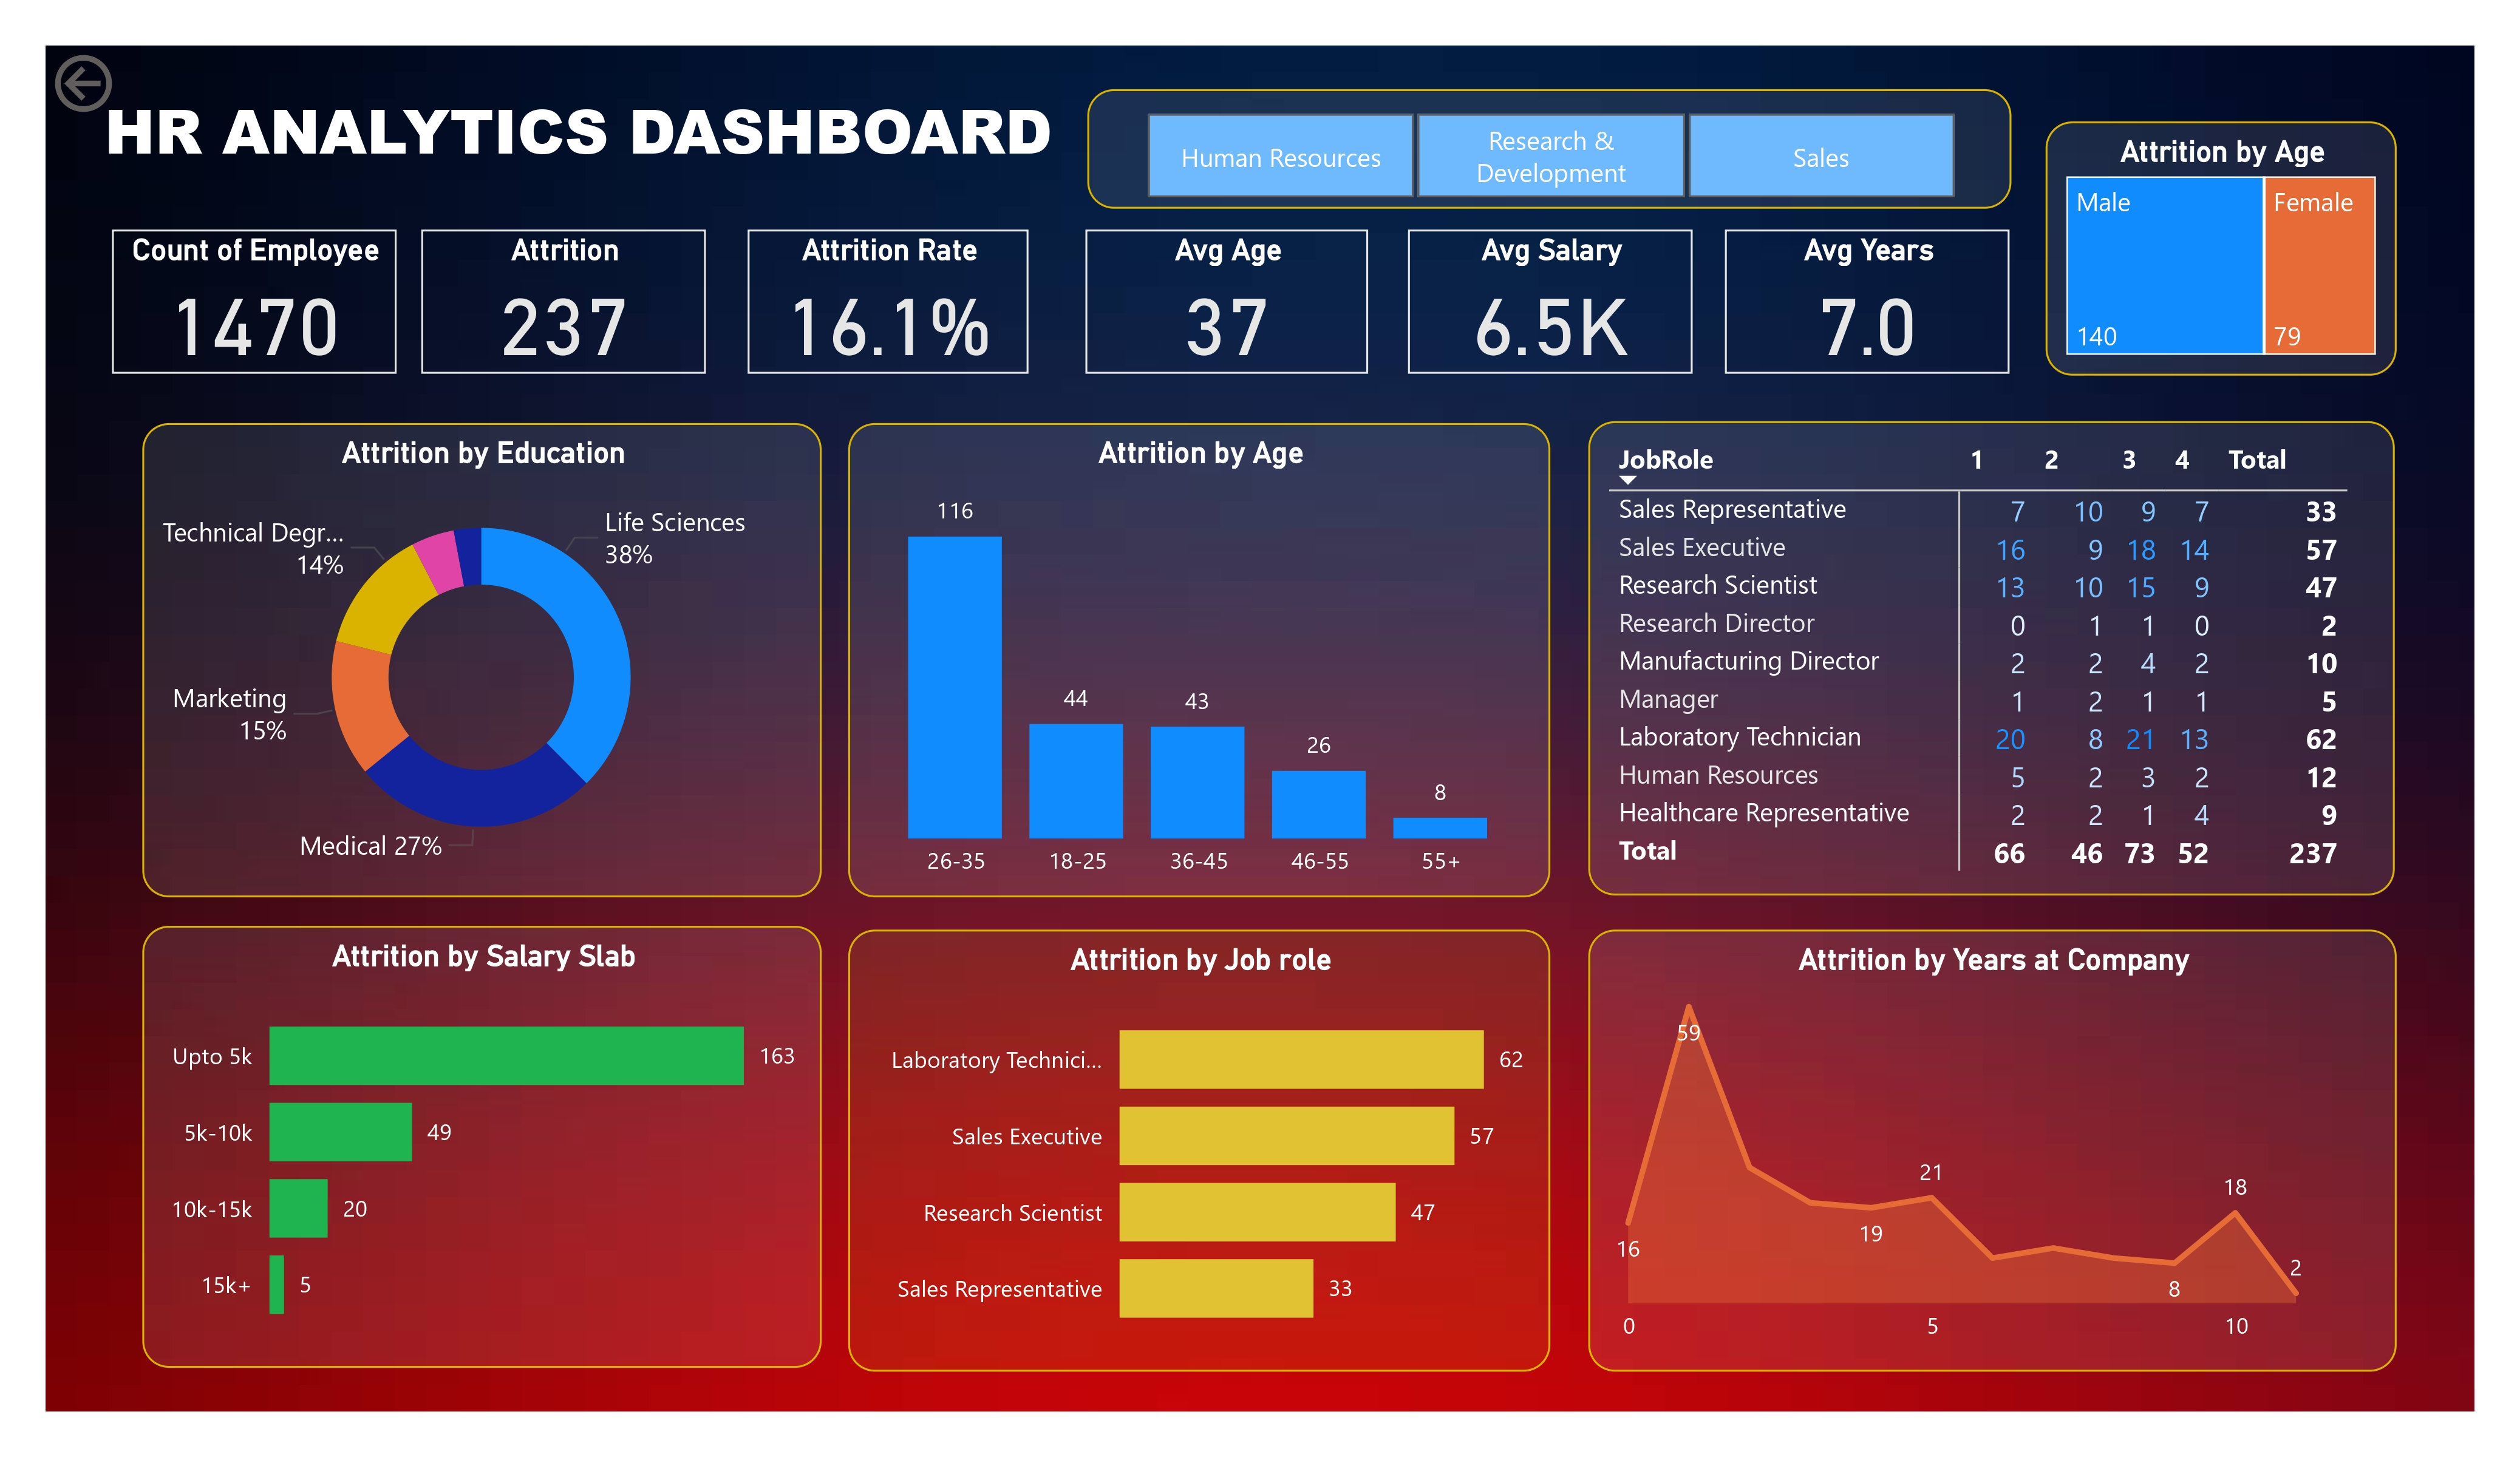

What the dashboard file says about the page in this screenshot:
{"tool":"powerbi","page":{"name":"Page 1","canvas":[1280,720],"ordinal":0},"visuals":[{"type":"card","title":"Count of Employee","fields":{"Values":["Sum(HR_Analytics.EmployeeCount)"]},"box":[35,96.7,150,76.7],"z":0},{"type":"card","title":"Attrition Rate","fields":{"Values":["HR_Analytics.AttritionRate"]},"box":[370,96.7,148.3,76.7],"z":1000},{"type":"card","title":"Avg Age","fields":{"Values":["Avg(HR_Analytics.Age)"]},"box":[548.3,96.7,148.3,76.7],"z":2000},{"type":"card","title":"Attrition","fields":{"Values":["Sum(HR_Analytics.AttritionCount)"]},"box":[198.3,96.7,150,76.7],"z":3000},{"type":"card","title":"Avg Years","fields":{"Values":["Avg(HR_Analytics.YearsAtCompany)"]},"box":[885,96.7,150,76.7],"z":4000},{"type":"card","title":"Avg Salary","fields":{"Values":["Avg(HR_Analytics.MonthlyIncome)"]},"box":[718.3,96.7,150,76.7],"z":5000},{"type":"donutChart","title":"Attrition by Education","fields":{"Category":["HR_Analytics.EducationField"],"Y":["Sum(HR_Analytics.AttritionCount)"]},"box":[51.4,198.6,357.1,250],"z":6000},{"type":"columnChart","title":"Attrition by Age","fields":{"Category":["HR_Analytics.AgeGroup"],"Y":["Sum(HR_Analytics.AttritionCount)"]},"box":[422.9,198.6,370,250],"z":7000},{"type":"pivotTable","fields":{"Rows":["HR_Analytics.JobRole"],"Columns":["HR_Analytics.JobSatisfaction"],"Values":["Sum(HR_Analytics.AttritionCount)"]},"box":[813.3,198.3,425,250],"z":8000},{"type":"barChart","title":"Attrition by Salary Slab","fields":{"Category":["HR_Analytics.SalarySlab"],"Y":["Sum(HR_Analytics.AttritionCount)"]},"box":[51.4,464.3,357.1,232.9],"z":9000},{"type":"barChart","title":"Attrition by Job role","fields":{"Y":["Sum(HR_Analytics.AttritionCount)"],"Category":["HR_Analytics.JobRole"]},"box":[422.9,465.7,370,232.9],"z":10000},{"type":"areaChart","title":"Attrition by Years at Company","fields":{"Category":["HR_Analytics.YearsAtCompany"],"Y":["Sum(HR_Analytics.AttritionCount)"]},"box":[812.9,465.7,425.7,232.9],"z":11000},{"type":"treemap","title":"Attrition by Age","fields":{"Group":["HR_Analytics.Gender"],"Values":["Sum(HR_Analytics.AttritionCount)"]},"box":[1054.3,40,184.3,134.3],"z":12000},{"type":"slicer","fields":{"Values":["HR_Analytics.Department"]},"box":[548.6,22.9,487.1,62.9],"z":13000},{"type":"textbox","box":[25.7,17.1,511.4,80],"z":14000},{"type":"actionButton","box":[0,0,100,40],"z":15000}]}

Visuals, with their boxes in screenshot pixels (x1, y1, x2, y2):
"Count of Employee" card: 112,229,397,375
"Attrition Rate" card: 747,229,1029,375
"Avg Age" card: 1086,229,1367,375
"Attrition" card: 422,229,706,375
"Avg Years" card: 1725,229,2009,375
"Avg Salary" card: 1409,229,1693,375
"Attrition by Education" donutChart: 143,423,821,897
"Attrition by Age" columnChart: 848,423,1550,897
pivotTable - HR_Analytics.JobRole x HR_Analytics.JobSatisfaction: 1589,422,2396,896
"Attrition by Salary Slab" barChart: 143,926,821,1368
"Attrition by Job role" barChart: 848,929,1550,1371
"Attrition by Years at Company" areaChart: 1588,929,2396,1371
"Attrition by Age" treemap: 2046,121,2396,376
slicer - HR_Analytics.Department: 1086,89,2011,208
textbox: 94,78,1064,229
actionButton: 46,46,236,121
